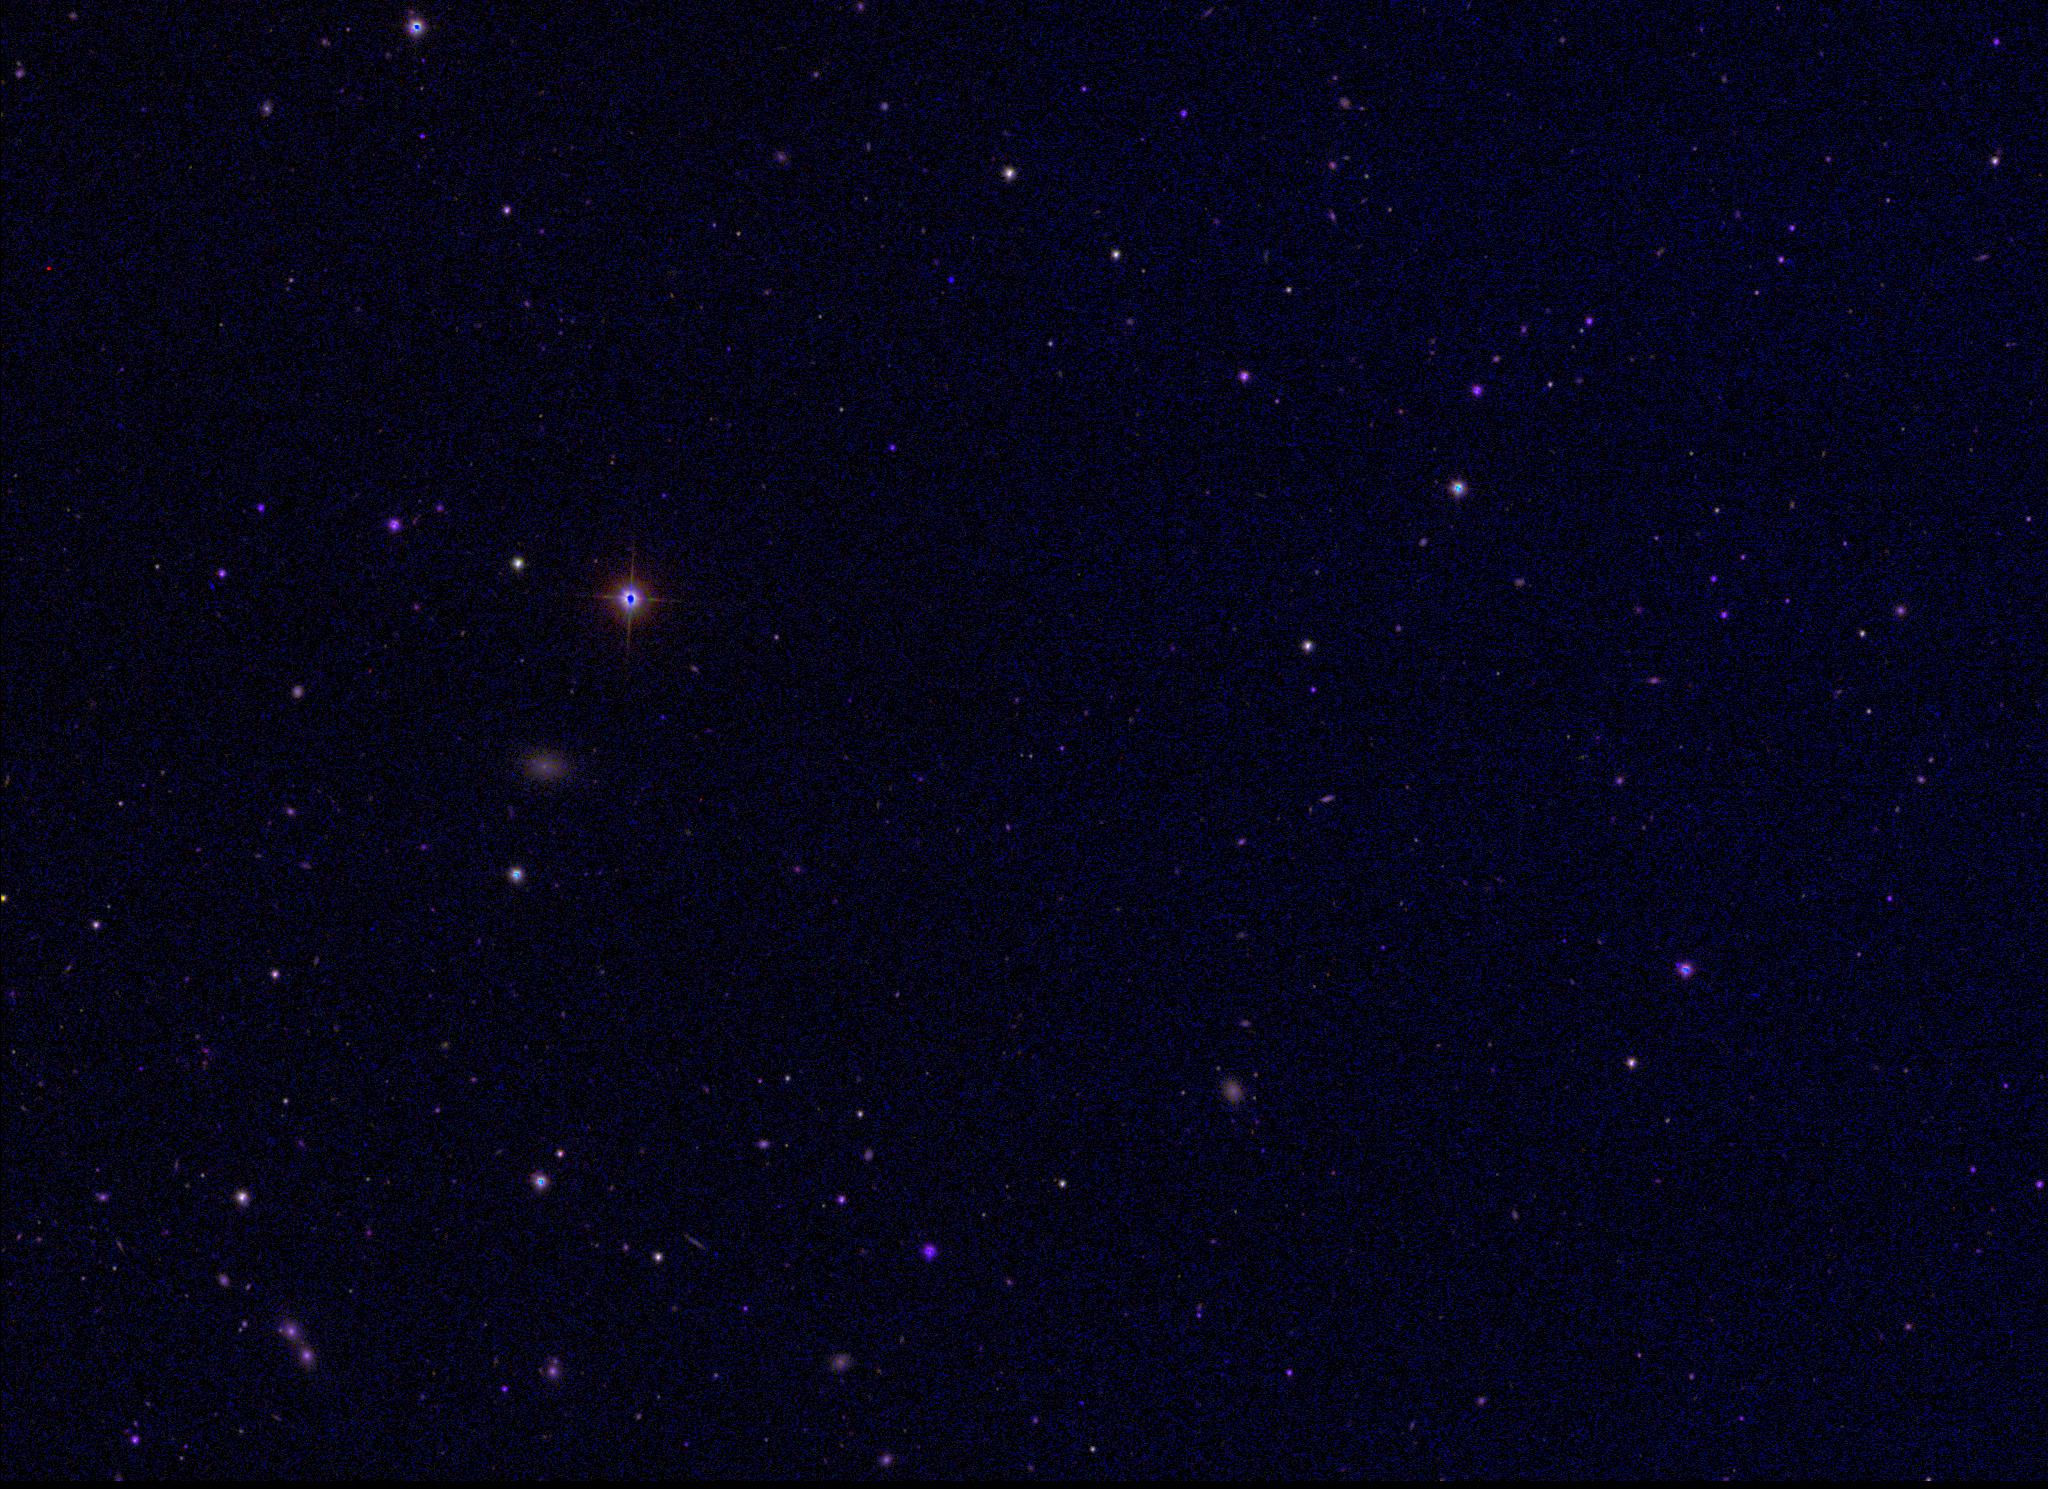L: (944, 270, 959, 285)
